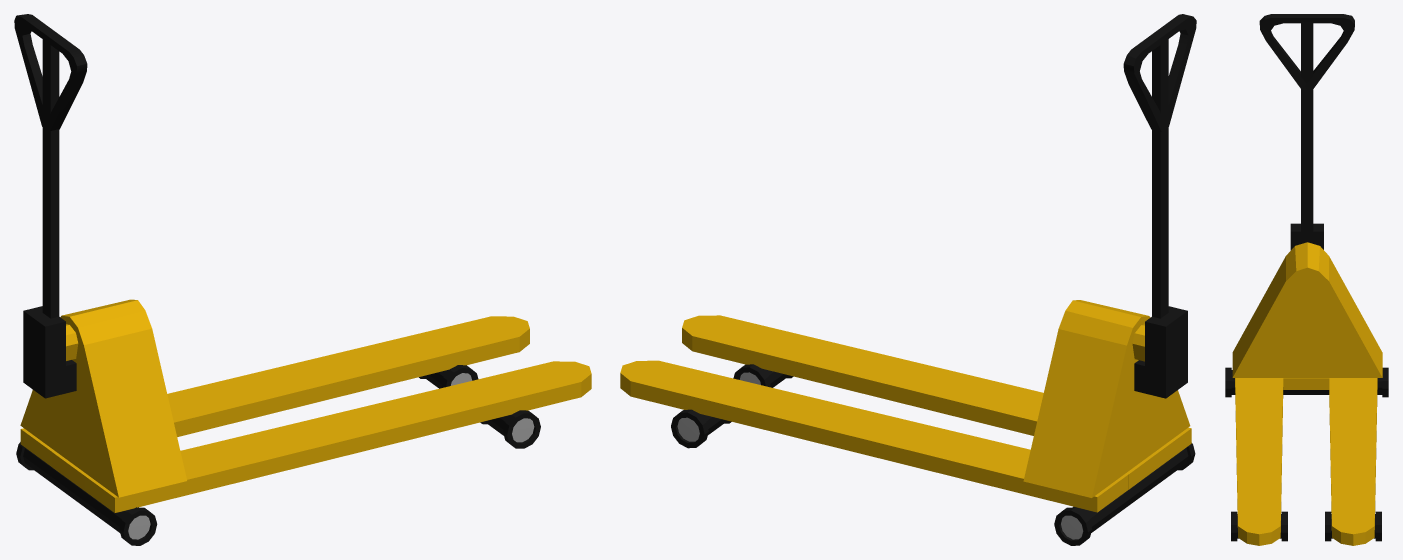
File: Transpalette sans carton.fbx
The picture shows the model from 3 angles, left to right: view 1: azimuth 30°, elevation 25°; view 2: azimuth 150°, elevation 25°; view 3: azimuth 270°, elevation 25°; orthographic projection. The views are drawn at different scales.
Parts seen in each view (by area): view 1: transpalette; view 2: transpalette; view 3: transpalette.
Boxes of the visible parts, <box> form: transpalette: <box>14,14,591,545</box>; transpalette: <box>620,14,1196,545</box>; transpalette: <box>1225,14,1388,545</box>.
Size of the model in its own units: 2.89 by 2.54 by 1.02.
